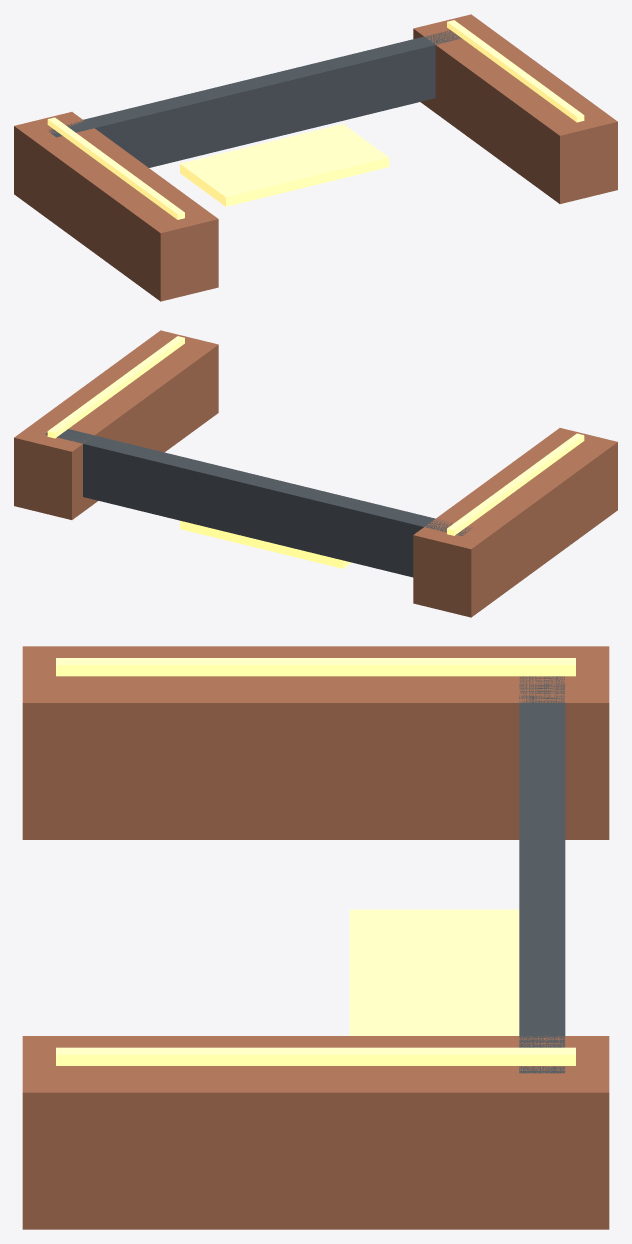
The model's file is interact_finish_frame_canyon.glb.
3 renders of one model, top to bottom at view 1: azimuth 30°, elevation 25°; view 2: azimuth 150°, elevation 25°; view 3: azimuth 270°, elevation 25°, orthographic. The views are drawn at different scales.
Parts seen in each view (by area): view 1: interact_finish_frame_canyon; view 2: interact_finish_frame_canyon; view 3: interact_finish_frame_canyon.
Part boxes in pixels (box(x1,y1,x2,y2)): interact_finish_frame_canyon: box(14, 14, 617, 301); interact_finish_frame_canyon: box(14, 330, 617, 617); interact_finish_frame_canyon: box(22, 646, 609, 1229).
Bounding box in the file's own units: 12.6 × 2 × 7.
